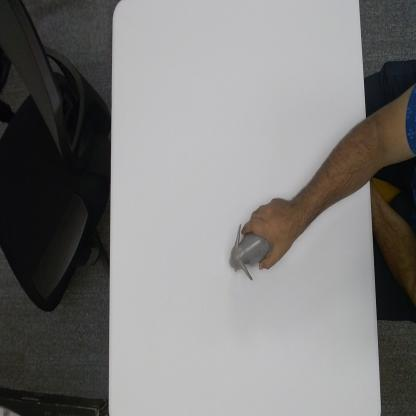Arm: (296, 118, 375, 236)
Elephant: (228, 221, 272, 281)
Hand: (242, 194, 296, 270)
